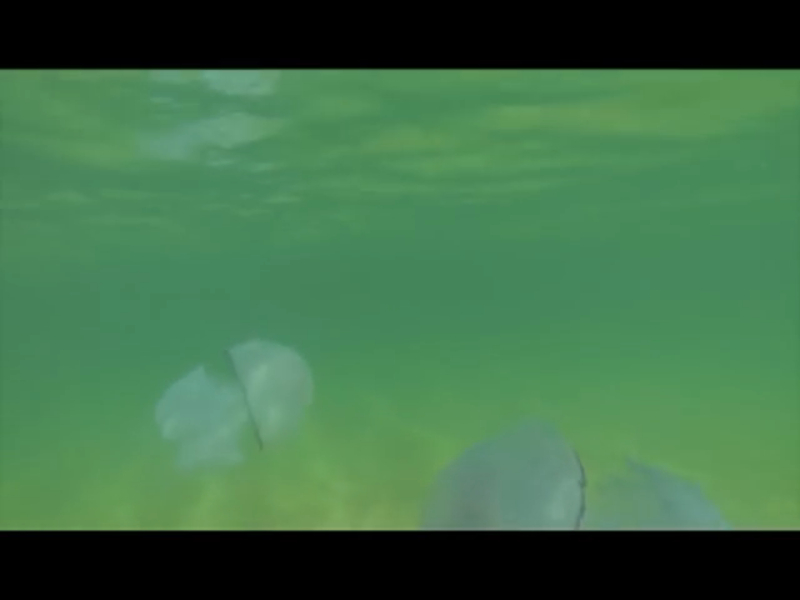white jellyfish: (411, 415, 731, 533), (148, 341, 323, 473)
